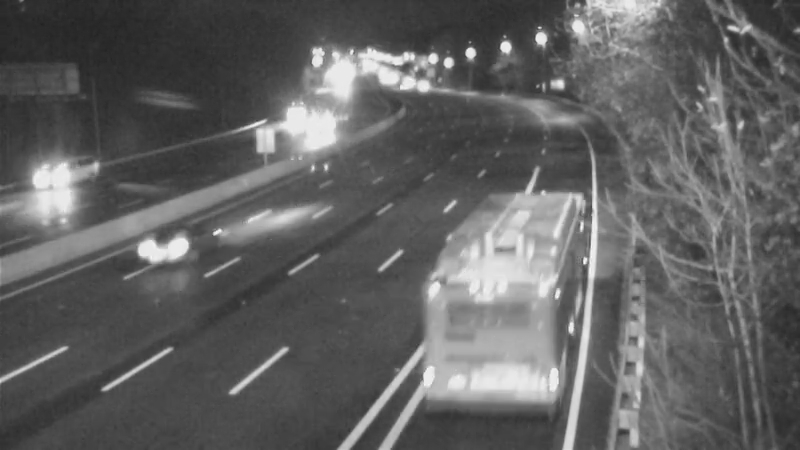vehicle: (448, 252, 558, 362), (144, 189, 224, 269), (9, 143, 89, 223), (266, 90, 316, 140)
